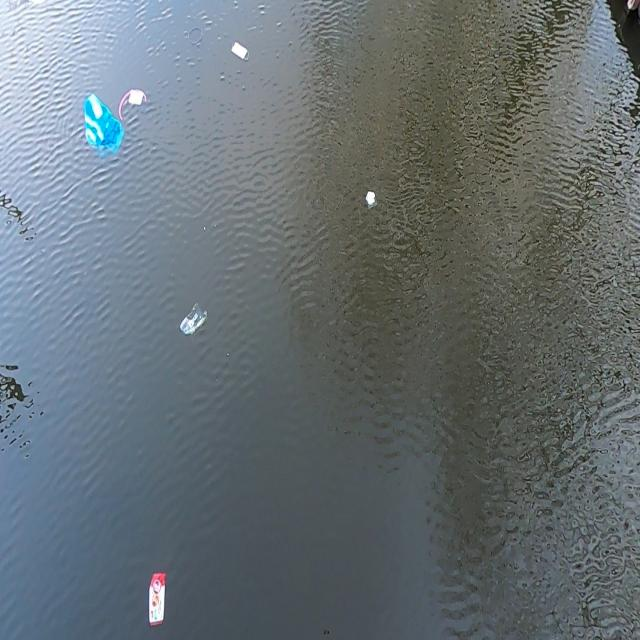Autre plastique: (144, 565, 168, 633)
Non plastique: (229, 35, 252, 66)
Sac plastique: (78, 85, 124, 166), (177, 295, 211, 341)
